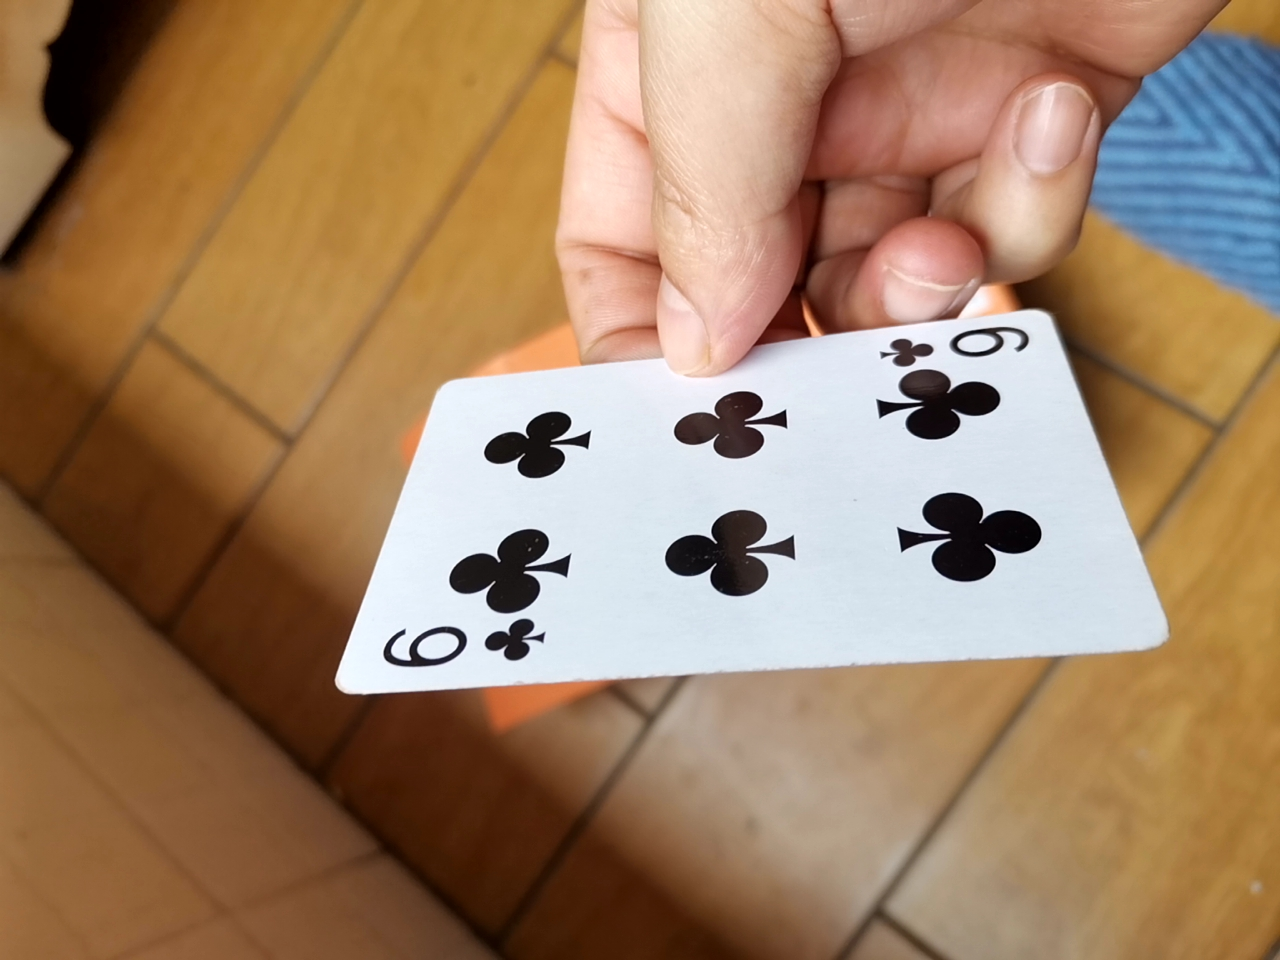mh 6: (321, 301, 1194, 703)
